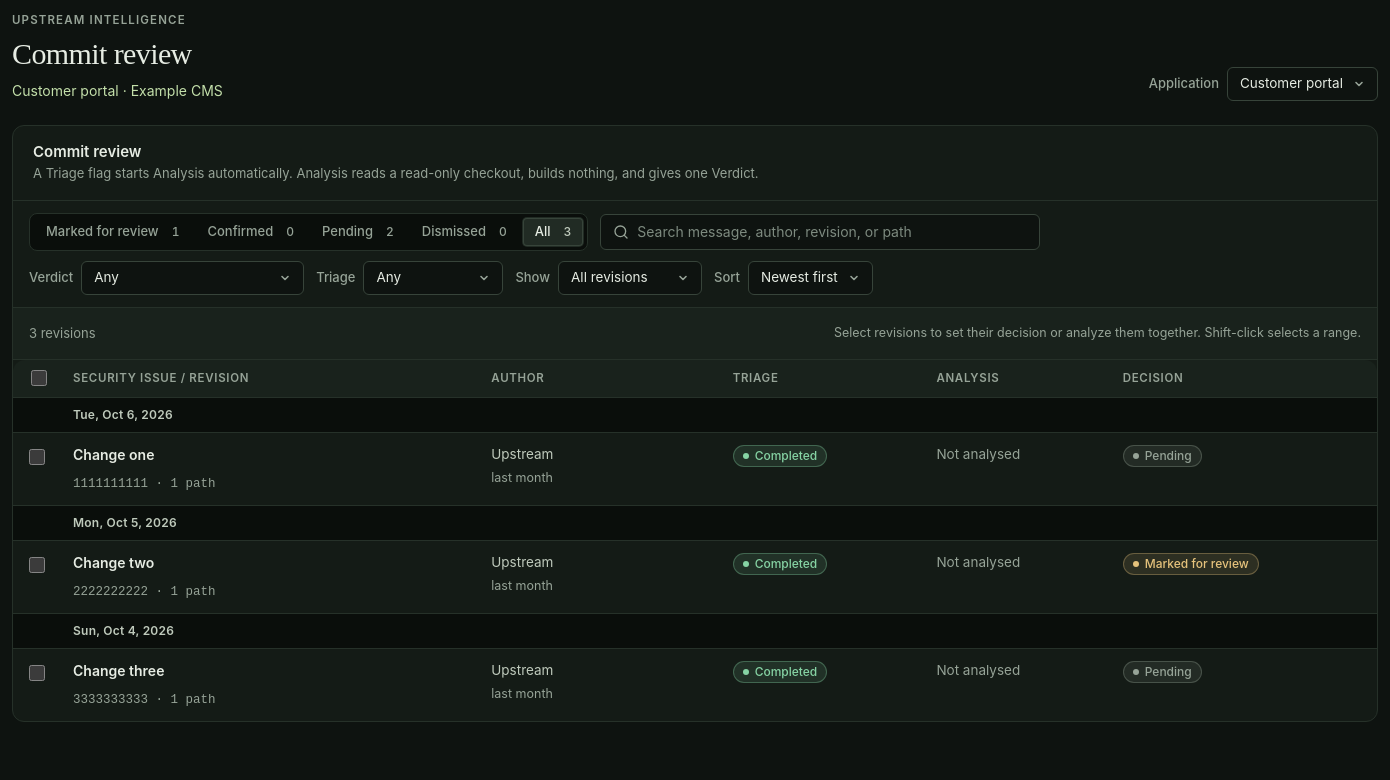
sets one decision on a selected range of revisions and can undo it
The width and height of the screenshot is (1390, 780).
Click the checkbox named "Select Change one" at (37, 457), box [29,449,45,465]
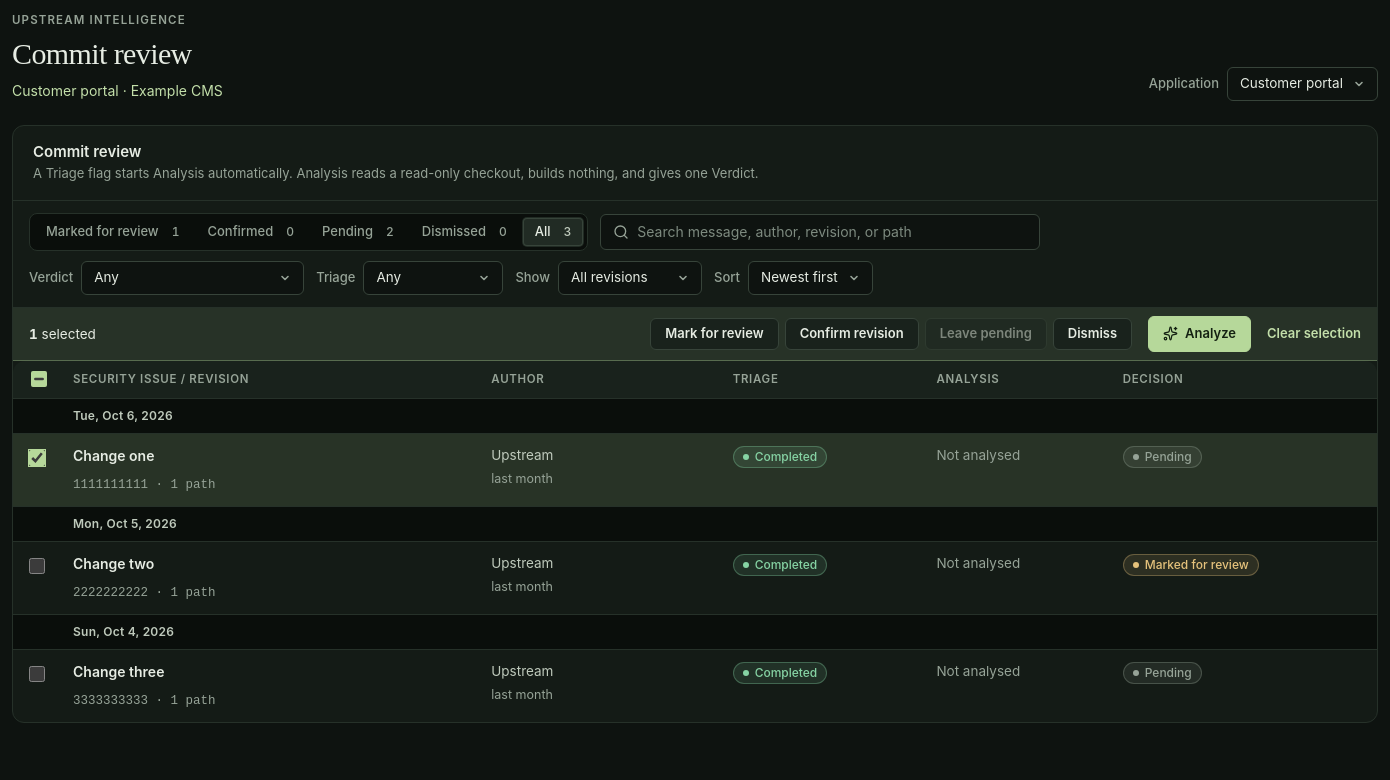
Type keys "{Shift>}"
Click the checkbox named "Select Change three" at (37, 674), box [29,666,45,682]
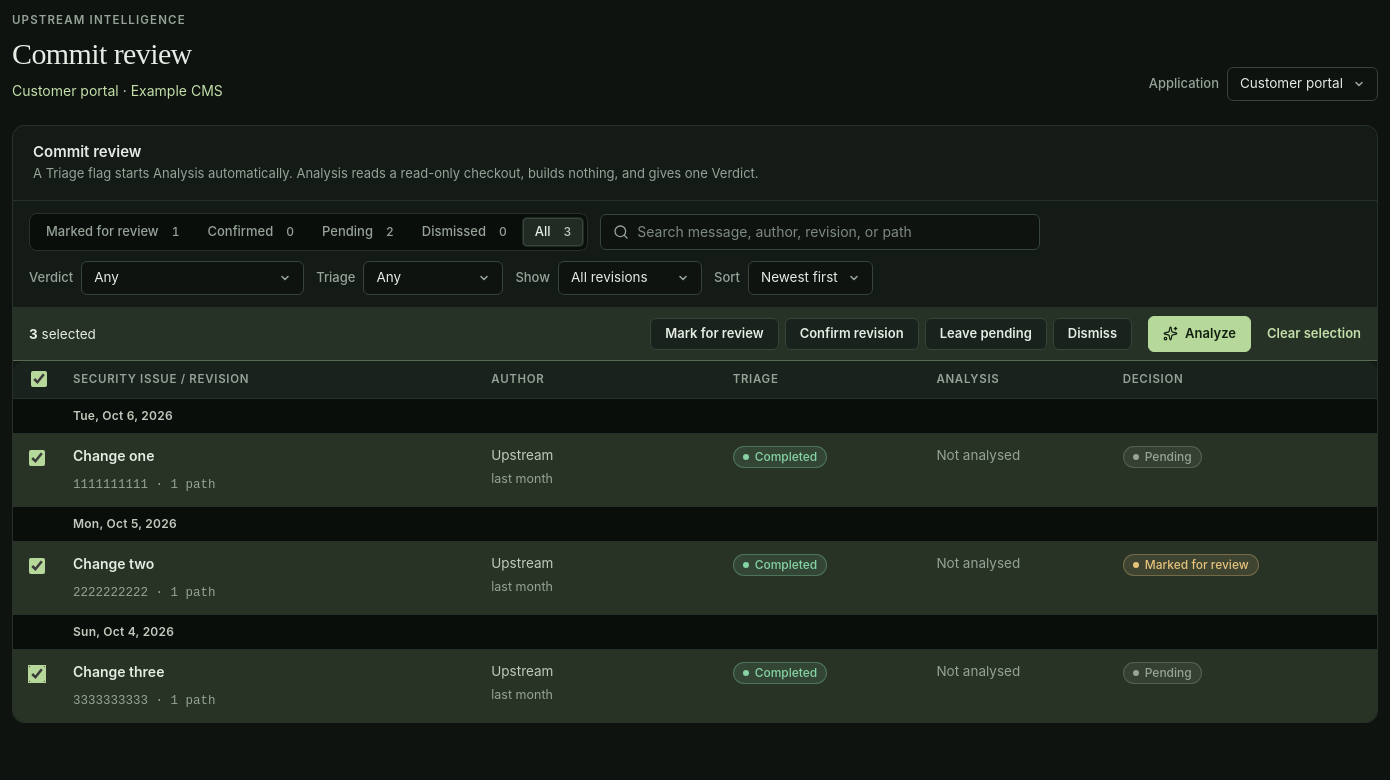
Type keys "{/Shift}"
Expected: the checkbox named "Select Change two" is checked, [29,558,45,574]
Expected: the button "Dismiss" is enabled
Click the button "Dismiss" at (1092, 334), box [1053,318,1132,350]
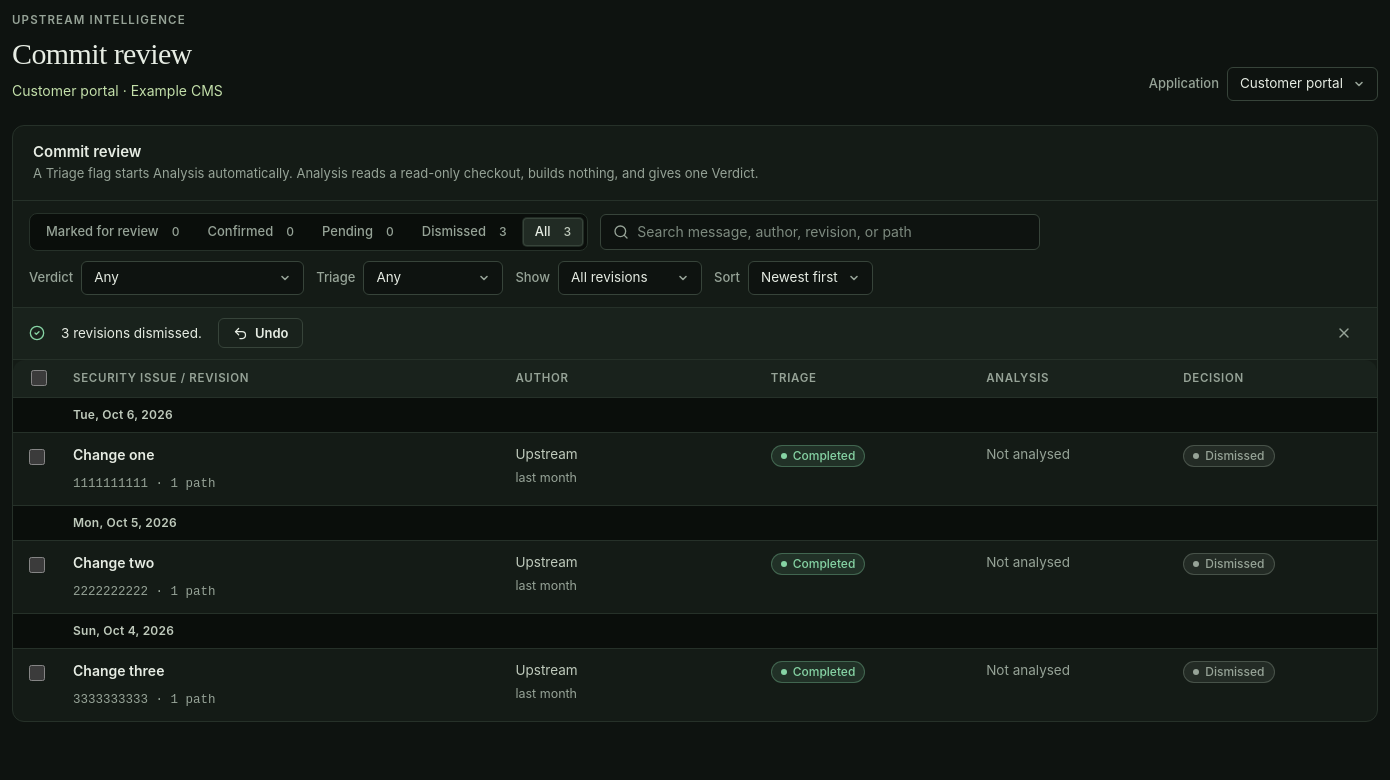
Expected: the text "3 revisions dismissed." is shown, [61,323,202,343]
Click the button "Undo" at (261, 333), box [218,318,304,348]
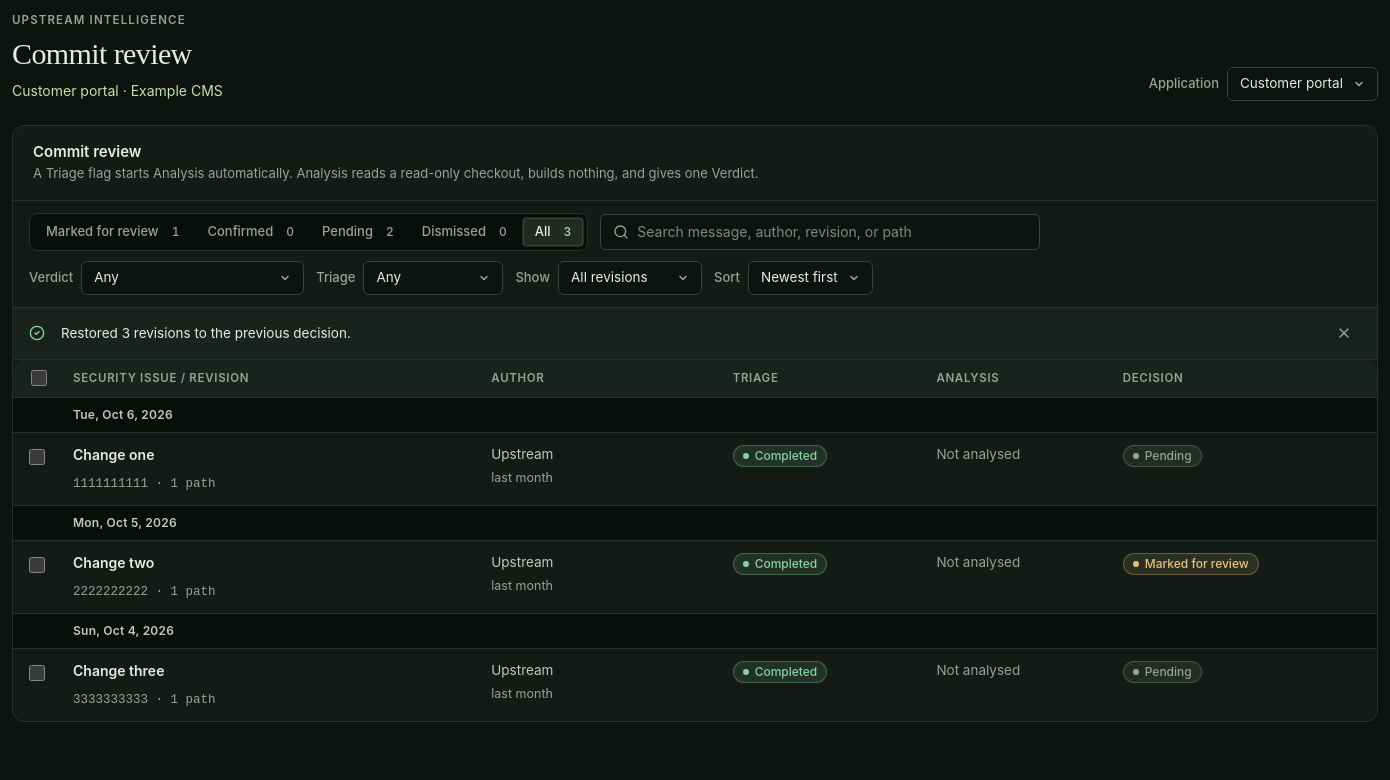
Expected: the text "Restored 3 revisions to the previous decision." is shown, [61,323,351,343]
